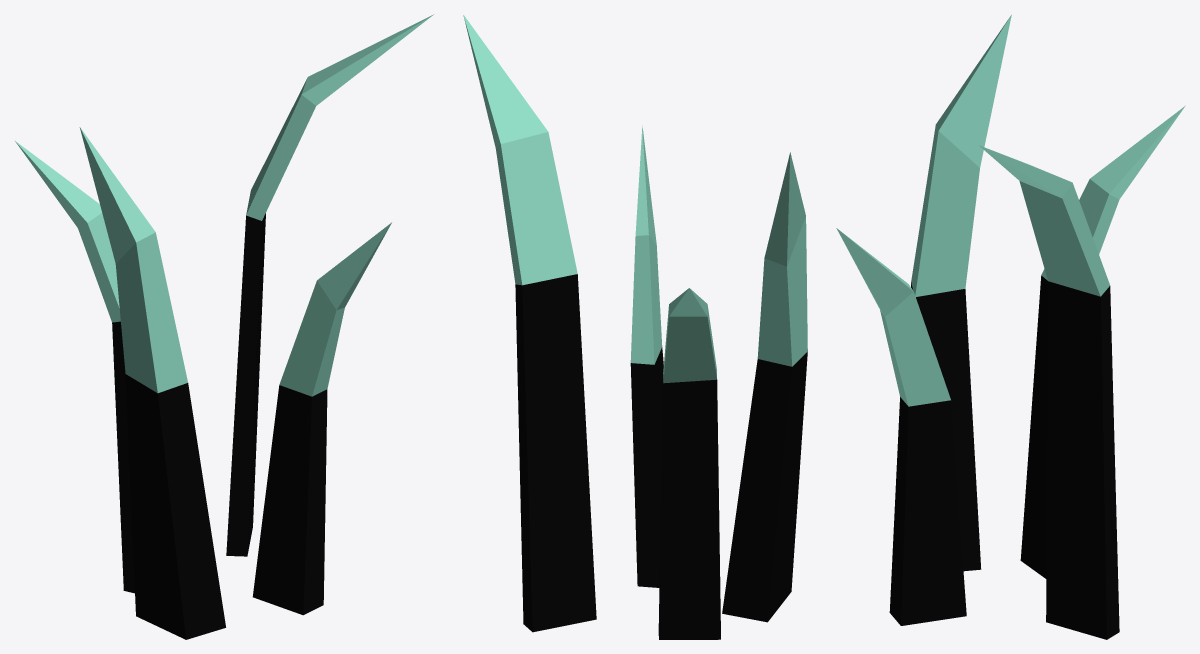
The model's file is Grass_2.fbx.
3 renders of one model, left to right at view 1: azimuth 30°, elevation 25°; view 2: azimuth 150°, elevation 25°; view 3: azimuth 270°, elevation 25°, orthographic. The views are drawn at different scales.
Parts seen in each view (by area): view 1: Grass_2; view 2: Grass_2; view 3: Grass_2.
Boxes of the visible parts, left/top/right/bottom form: Grass_2: left=15, top=14, right=433, bottom=639; Grass_2: left=463, top=15, right=807, bottom=639; Grass_2: left=836, top=14, right=1185, bottom=639.
Size of the model in its own units: 0.0838 by 0.1247 by 0.071.
